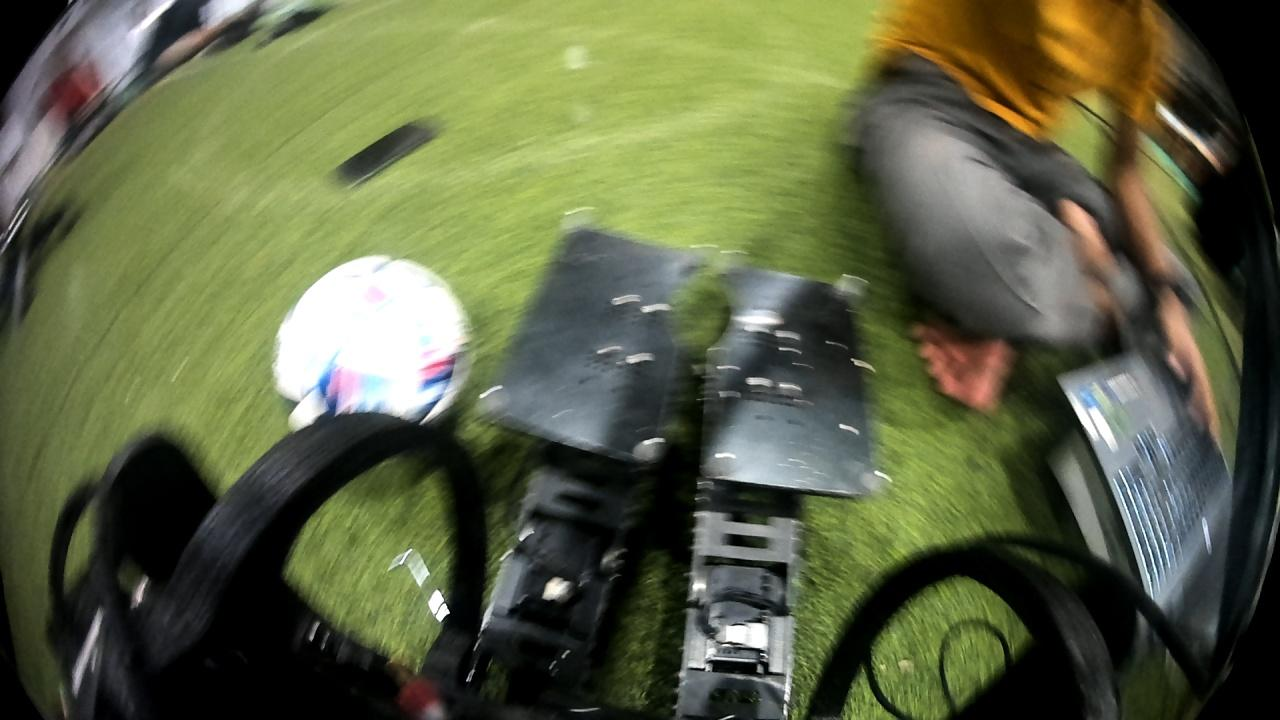ball: (270, 245, 483, 447)
